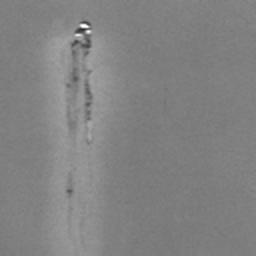Slag inclusion: (64, 18, 96, 128), (64, 186, 76, 196)
